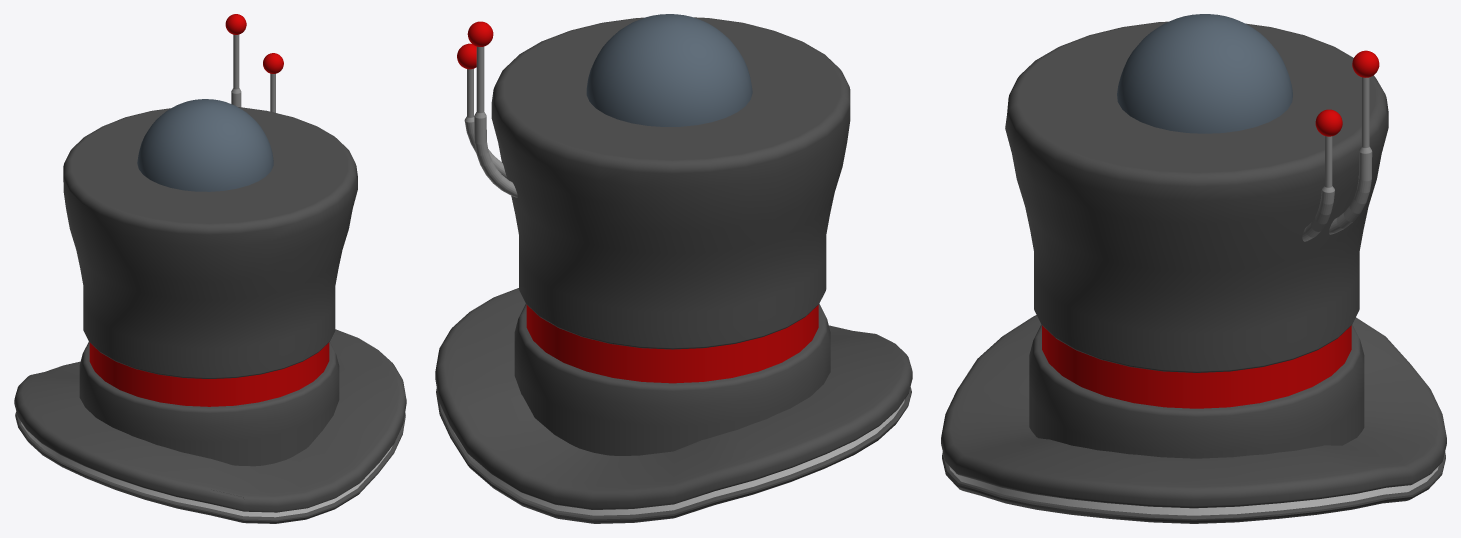
Rendered from top hat ufo.fbx.
3 views of the same model, side by side, from view 1: azimuth 30°, elevation 25°; view 2: azimuth 150°, elevation 25°; view 3: azimuth 270°, elevation 25° (orthographic). The views are drawn at different scales.
Visible parts, largest first — view 1: pCylinder1, pCylinder2, pSphere10, pCylinder5; view 2: pCylinder1, pCylinder2, pSphere10, pCylinder5, pCylinder4; view 3: pCylinder1, pCylinder2, pSphere10, pCylinder5, pCylinder4, pSphere11, pSphere12.
Part boxes in pixels (x1,y1,x2,y2): pCylinder1: (63,107,357,466); pCylinder2: (14,329,406,523); pSphere10: (137,99,273,191); pCylinder5: (231,34,241,107); pCylinder1: (491,17,850,455); pCylinder2: (435,288,912,523); pSphere10: (586,14,752,126); pCylinder5: (474,46,517,197); pCylinder4: (464,68,507,178); pCylinder1: (1005,21,1388,458); pCylinder2: (941,315,1446,523); pSphere10: (1117,14,1292,133); pCylinder5: (1329,77,1372,234); pCylinder4: (1302,136,1334,241); pSphere11: (1315,109,1342,136); pSphere12: (1352,50,1379,77).
Size of the model in its own units: 5.72 by 5.86 by 5.72.
